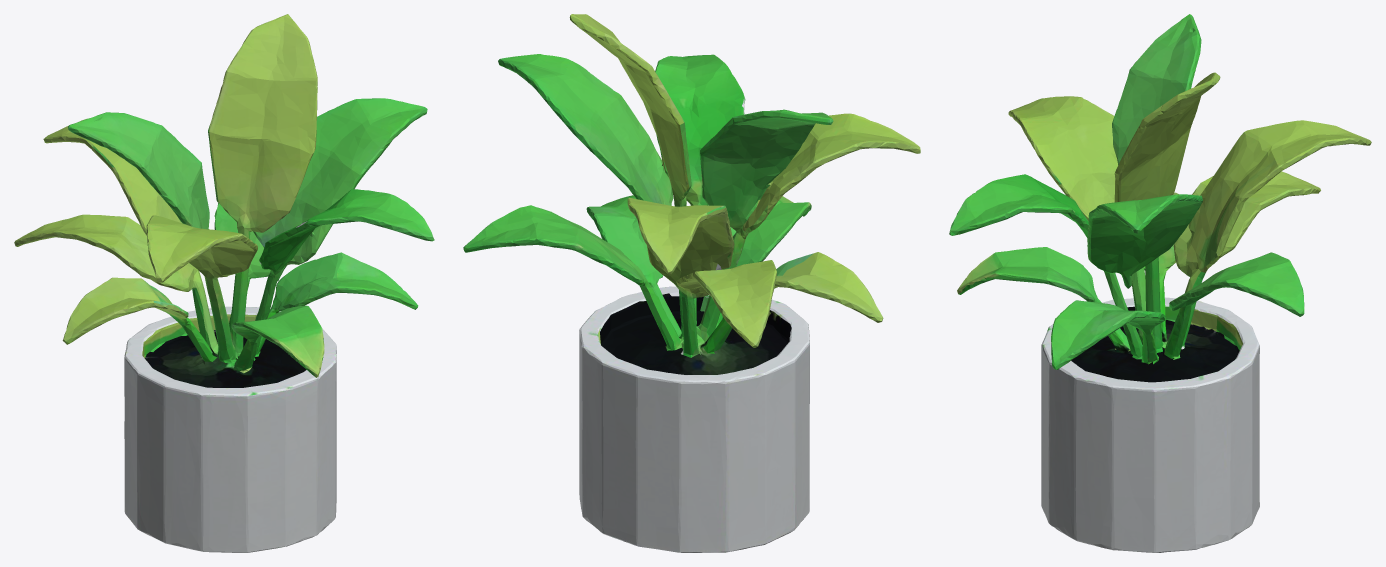
The model's file is plant.glb.
3 views of the same model, side by side, from view 1: azimuth 30°, elevation 25°; view 2: azimuth 150°, elevation 25°; view 3: azimuth 270°, elevation 25° (orthographic). The views are drawn at different scales.
Visible parts, largest first — view 1: tmp4f9ihkce.ply; view 2: tmp4f9ihkce.ply; view 3: tmp4f9ihkce.ply.
Boxes of the visible parts, left/top/right/bottom form: tmp4f9ihkce.ply: left=14, top=14, right=434, bottom=552; tmp4f9ihkce.ply: left=463, top=14, right=920, bottom=552; tmp4f9ihkce.ply: left=949, top=14, right=1371, bottom=552.
Size of the model in its own units: 1.06 by 1.28 by 1.04.
Materials: 1 (1 with a texture image).
